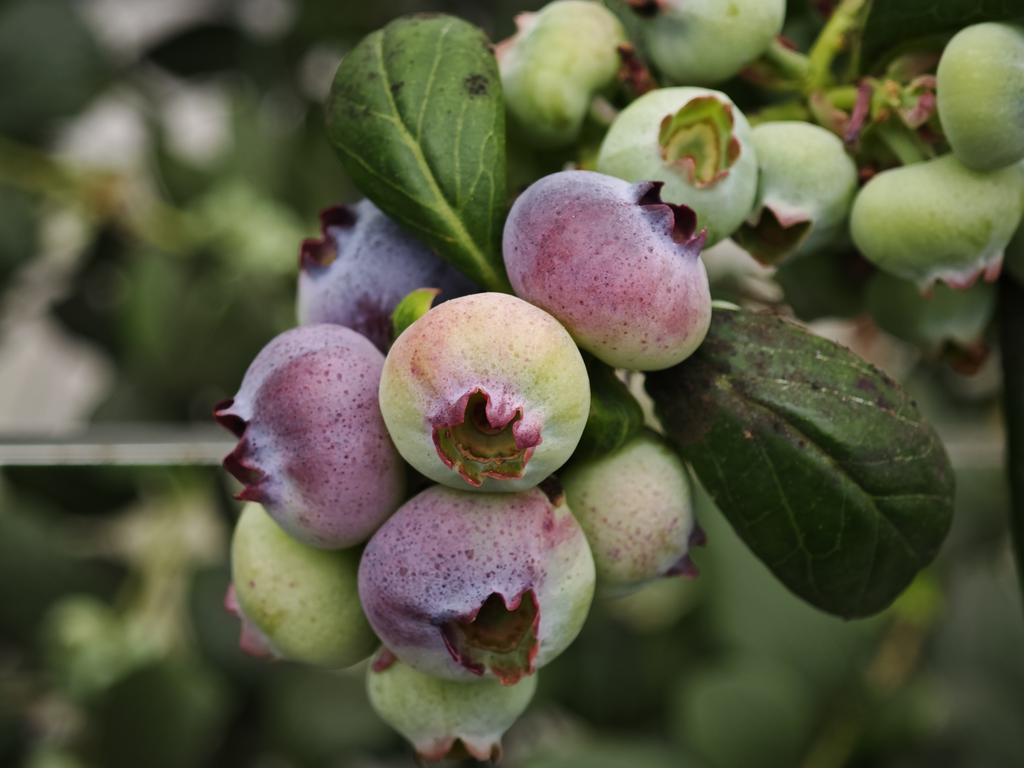Semi-RipeBlueBerry: (377, 288, 592, 498), (508, 164, 718, 368), (354, 492, 583, 667), (229, 322, 392, 547)
